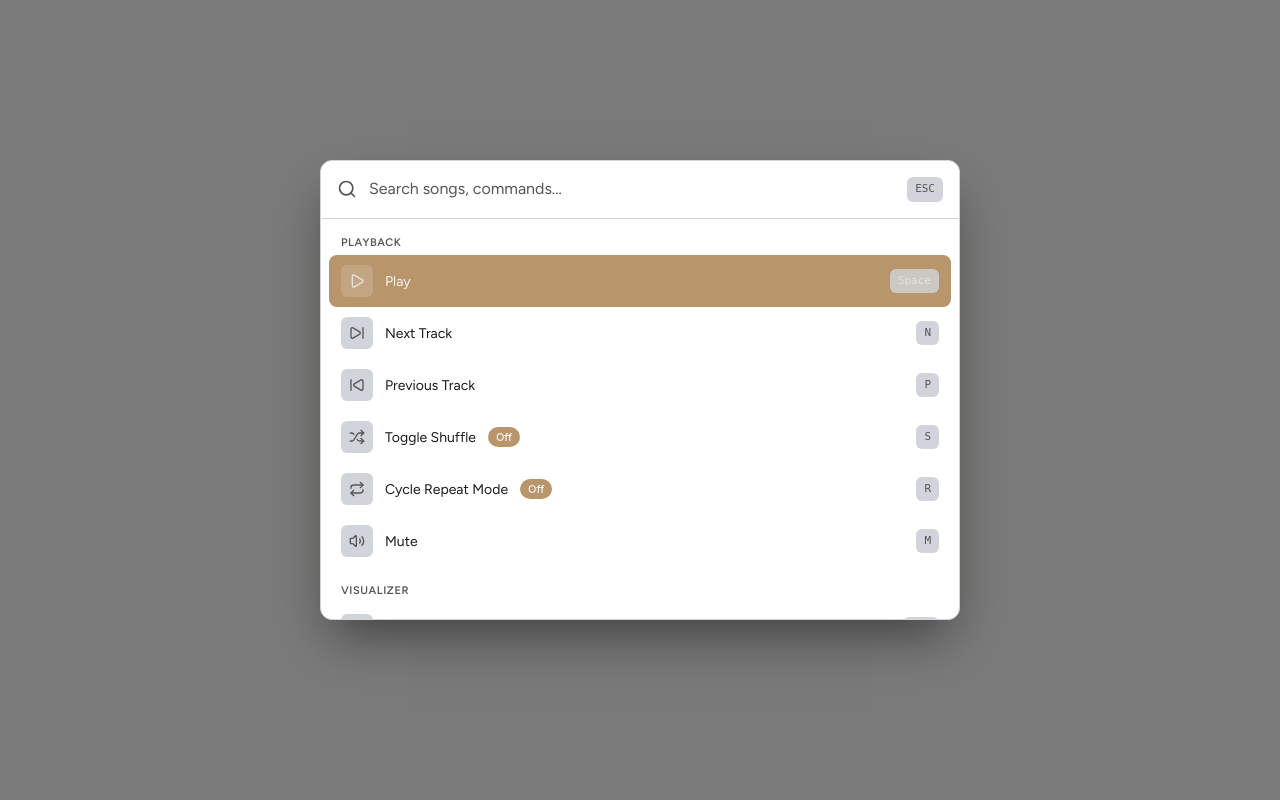
it: CommandMenu › song search › shows songs when searching by artist
Type "Jazz" into the dropdown with placeholder "Search songs, commands...". click: [632, 189]
box: 369,177 -> 895,201
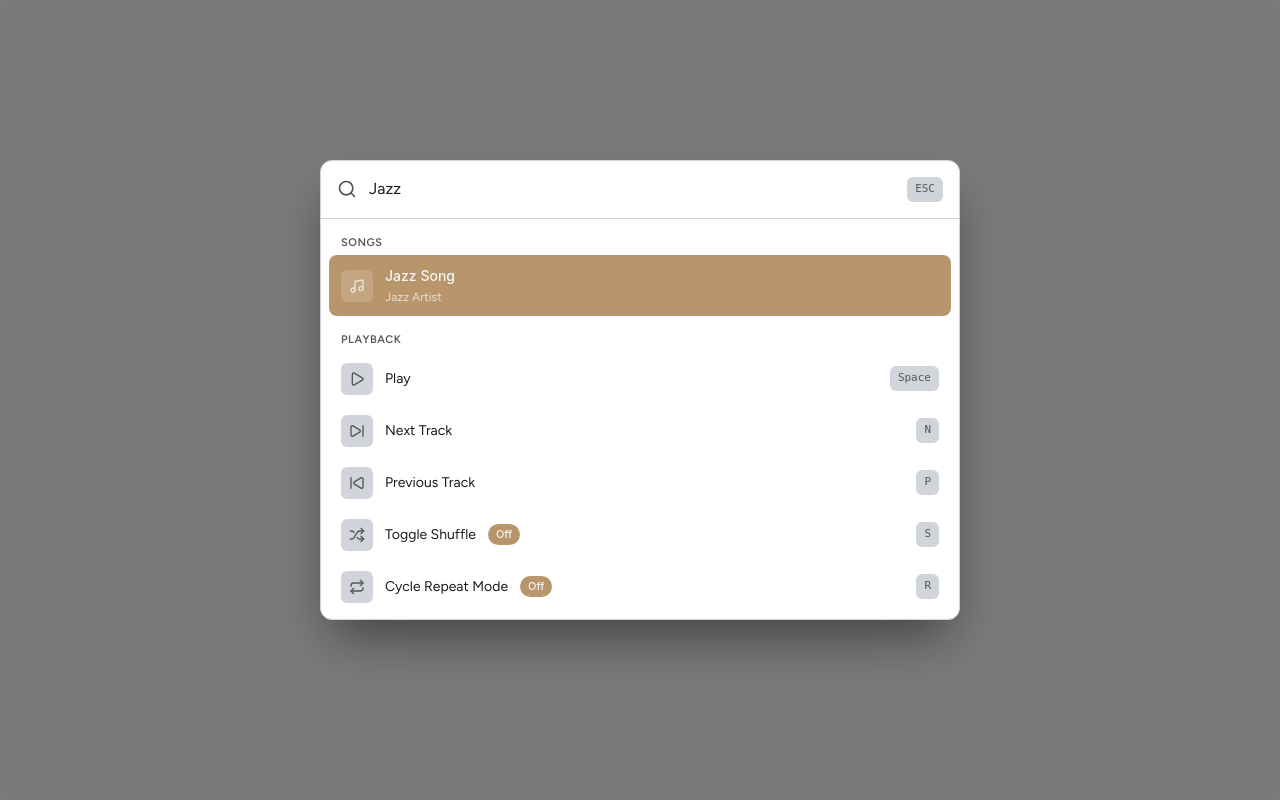
Expected: the text "Jazz Song" is shown, 385,267 -> 455,284
